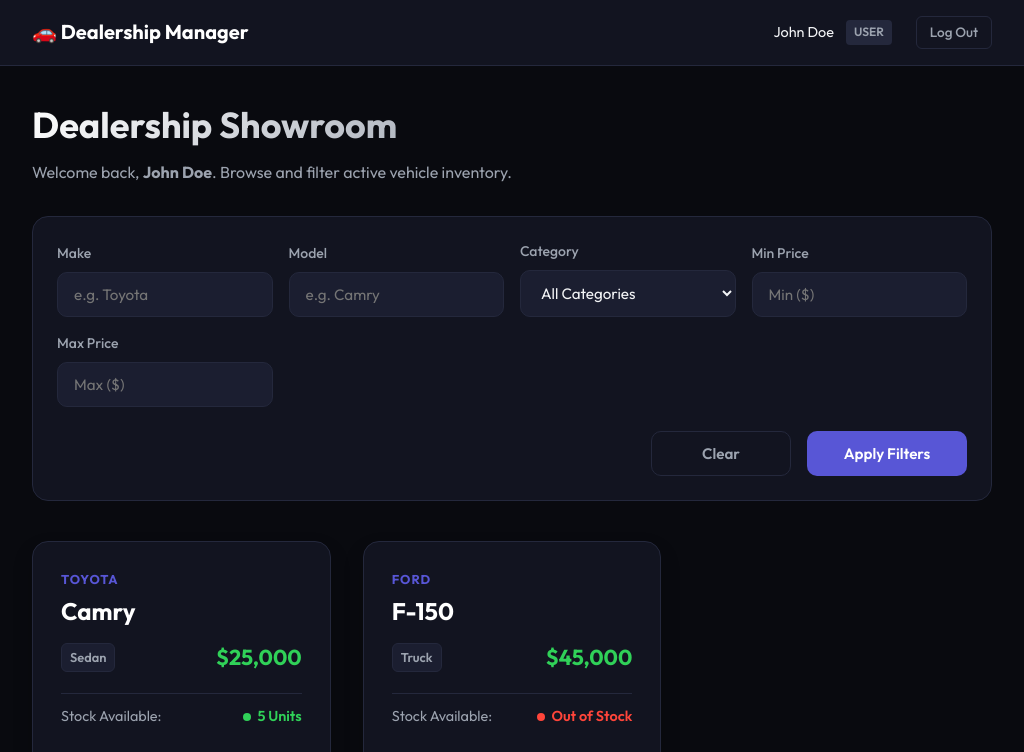
Test case: Frontend SPA Vehicle Showroom Dashboard & Filters › validates price input fields locally, blocking API request and rendering warnings
Expected: the heading "Dealership Showroom" is shown, [32,98,512,152]
Type "30000" into the number field labelled "Min Price" at (859, 294), box [752,272,967,317]
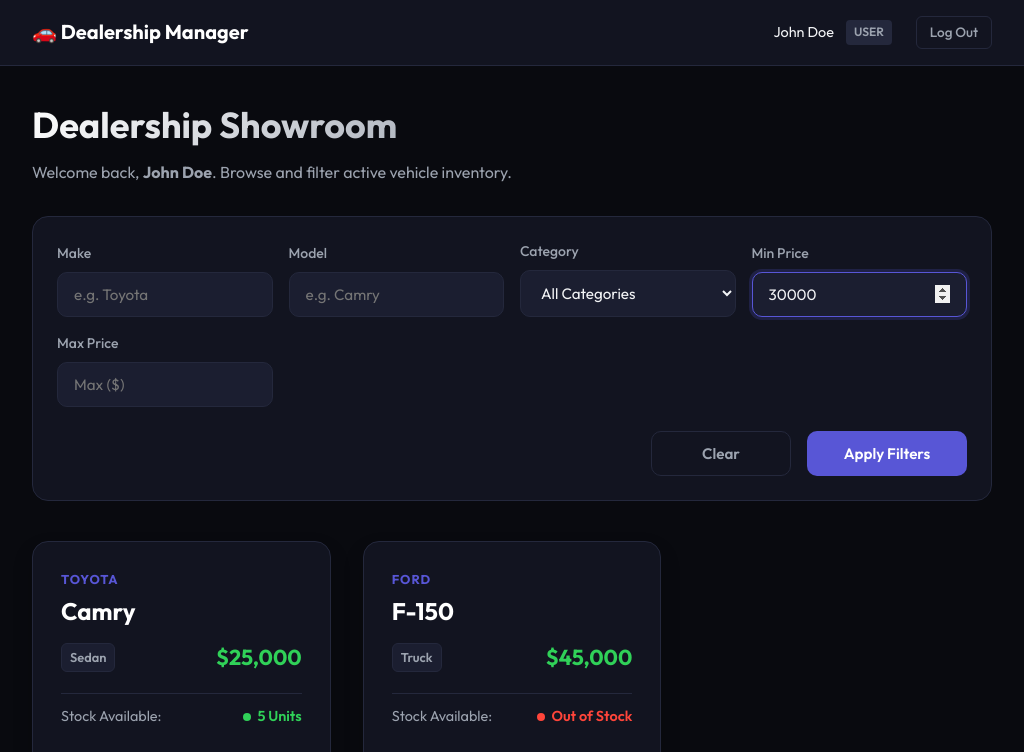
Type "20000" into the number field labelled "Max Price" at (165, 384), box [57,362,272,407]
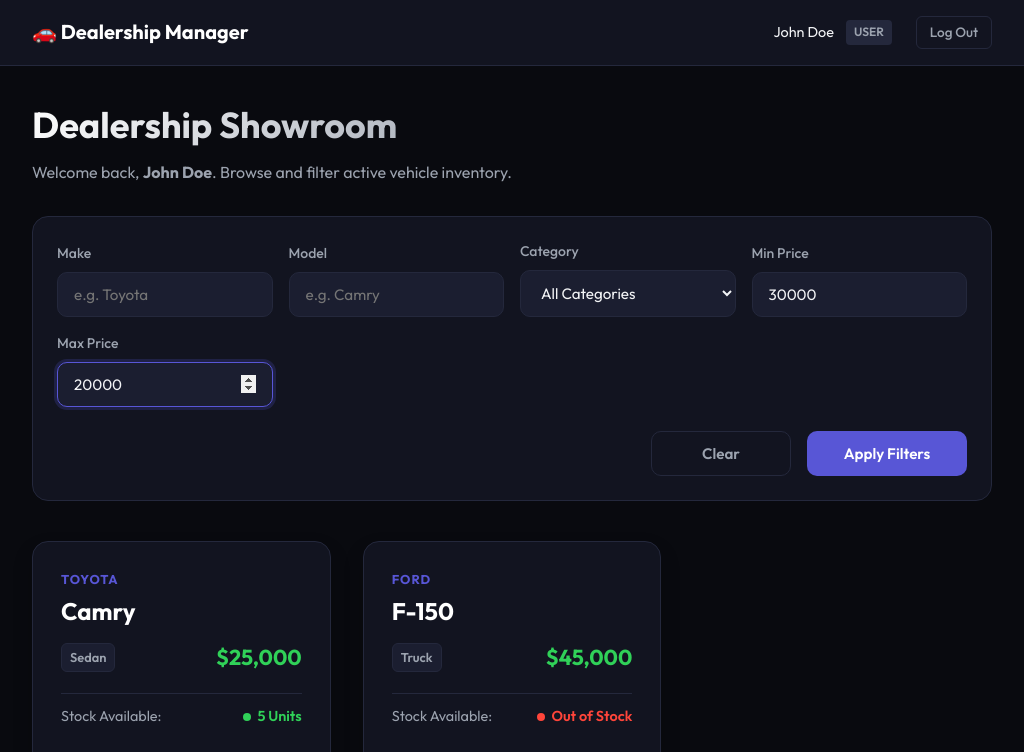
Click the button "Apply Filters" at (887, 453), box [807,431,967,476]
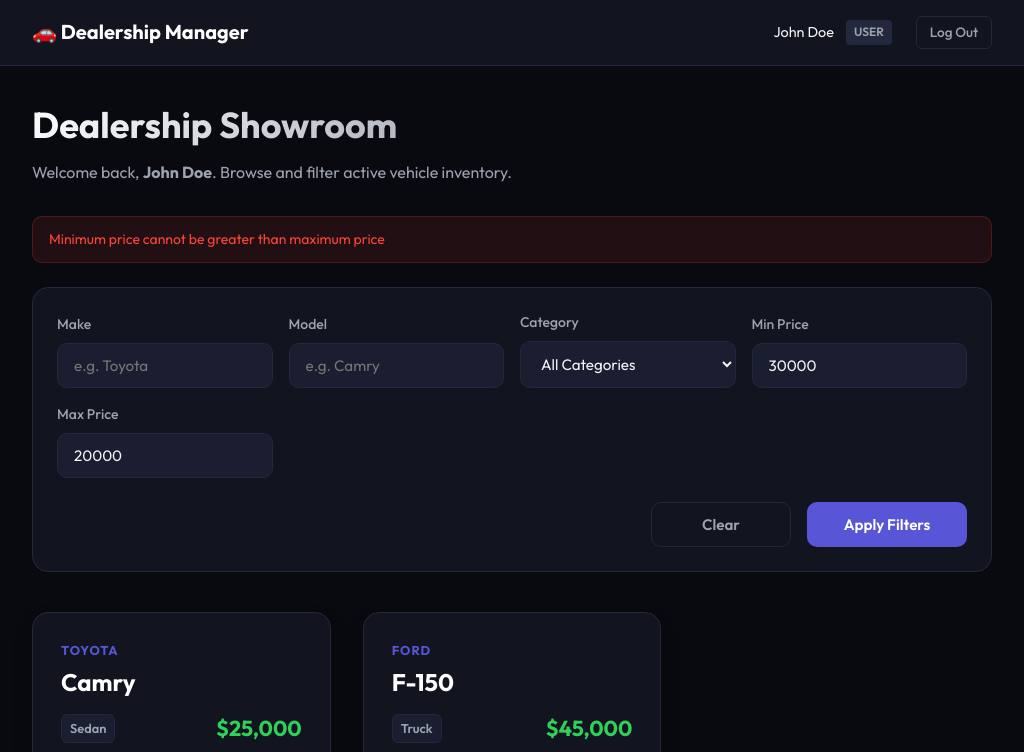
Expected: the text "Minimum price cannot be greater than maximum price" is shown, [32,216,992,263]
